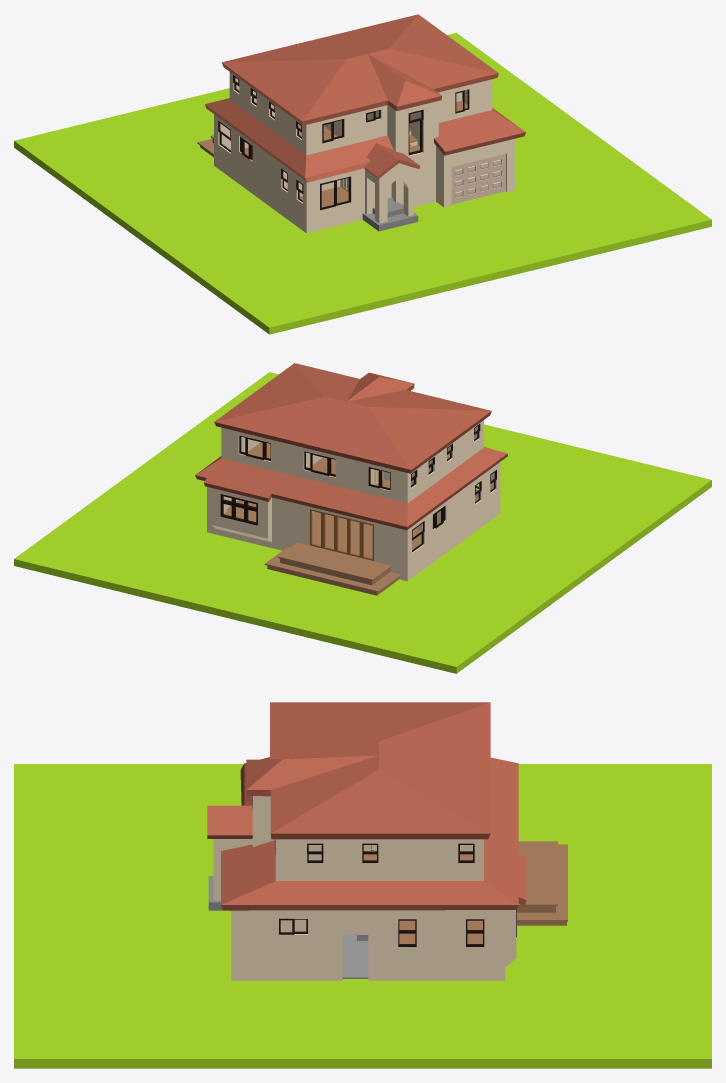
File: My House.glb
3 views of the same model, one above another, from view 1: azimuth 30°, elevation 25°; view 2: azimuth 150°, elevation 25°; view 3: azimuth 270°, elevation 25° (orthographic). The views are drawn at different scales.
Parts seen in each view (by area): view 1: Ground, Walls, Upper Roof Base, Lower Roof Base, Garage Door, Porch Structure, Porch Roof, Front Steps; view 2: Ground, Upper Roof Base, Walls, Lower Roof Base, Backyard Deck.002, Floor, Window Extension, Deck Window, Backyard Deck, Backyard Deck.001, Frame.013, Floor 2; view 3: Ground, Upper Roof Base, Walls, Lower Roof Base, Backyard Deck.002, Porch Roof, Backyard Deck.001, Garage Floor, Porch Structure, Floor, Window Extension.
Boxes of the visible parts, x1,y1,x2,y2 form: Ground: (14, 32, 711, 334); Walls: (214, 72, 514, 233); Upper Roof Base: (221, 14, 498, 125); Lower Roof Base: (205, 98, 525, 182); Garage Door: (451, 154, 505, 204); Porch Structure: (365, 163, 413, 223); Porch Roof: (364, 143, 420, 178); Front Steps: (362, 197, 418, 231); Ground: (14, 372, 711, 673); Upper Roof Base: (214, 363, 491, 473); Walls: (207, 420, 500, 581); Lower Roof Base: (195, 447, 507, 530); Backyard Deck.002: (278, 542, 391, 580); Floor: (226, 497, 478, 558); Window Extension: (211, 488, 271, 542); Deck Window: (309, 509, 373, 560); Backyard Deck: (267, 558, 399, 595); Backyard Deck.001: (264, 547, 401, 592); Frame.013: (220, 494, 257, 525); Floor 2: (248, 442, 449, 488); Ground: (14, 764, 711, 1068); Upper Roof Base: (246, 702, 490, 839); Walls: (231, 796, 505, 980); Lower Roof Base: (221, 757, 526, 910); Backyard Deck.002: (518, 841, 557, 906); Porch Roof: (207, 805, 252, 838); Backyard Deck.001: (517, 844, 567, 921); Garage Floor: (342, 934, 368, 978); Porch Structure: (213, 839, 252, 900); Floor: (399, 920, 482, 943); Window Extension: (505, 910, 516, 966).
Bounding box in the file's own units: 22.48 × 6.14 × 22.48.
